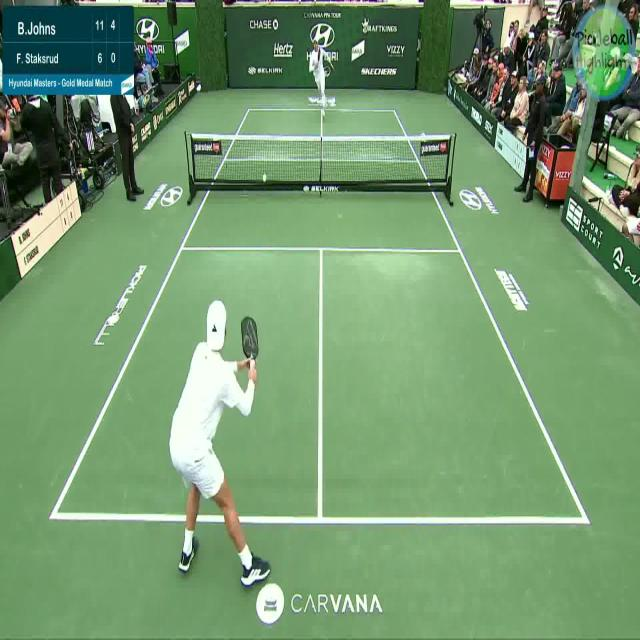Court: (53, 111, 587, 520)
ball: (259, 168, 270, 188)
